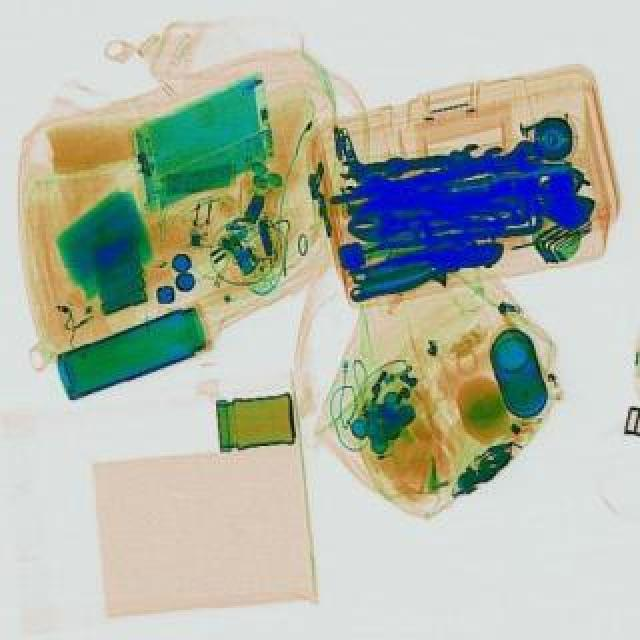scissors: (336, 140, 482, 180), (424, 140, 508, 188)
wrench: (344, 232, 508, 302)
